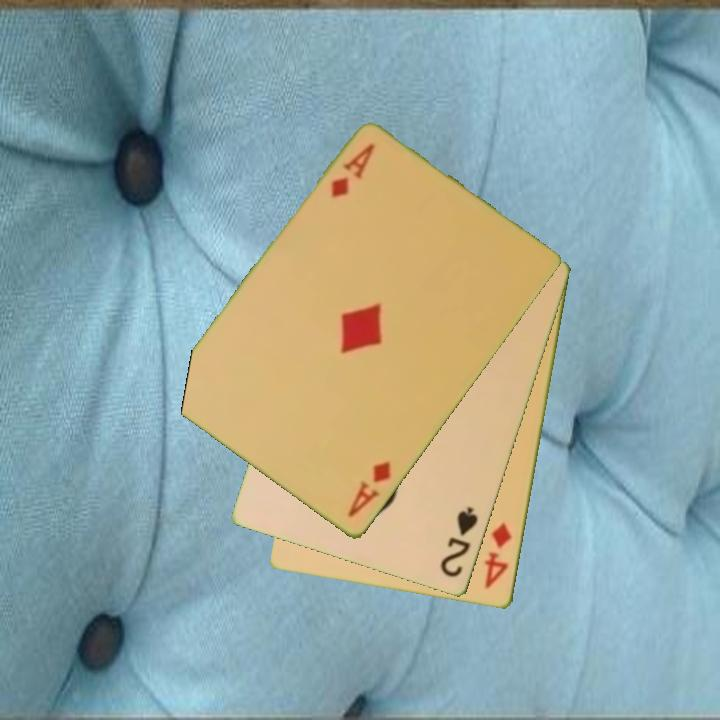2s: (437, 503, 482, 581)
4d: (481, 519, 516, 592)
Ad: (344, 458, 394, 522), (327, 140, 378, 202)
